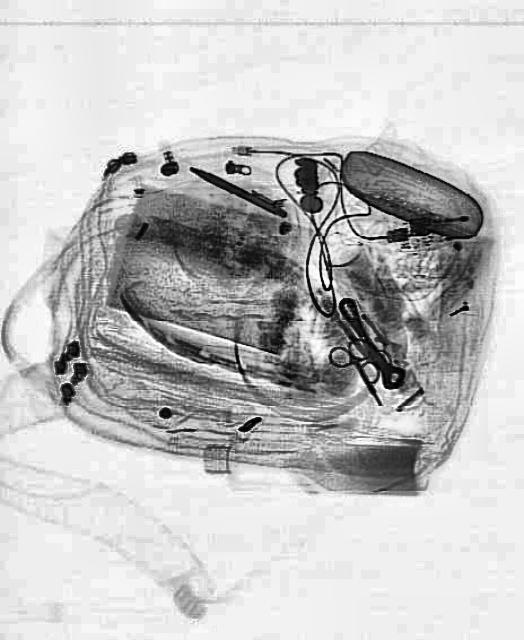Scissors: (326, 328, 396, 416)
